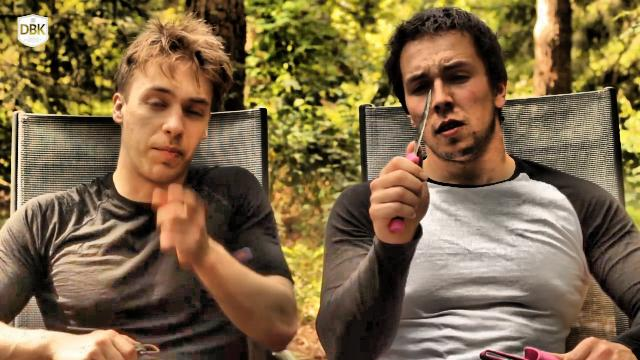knife: (372, 80, 438, 212)
